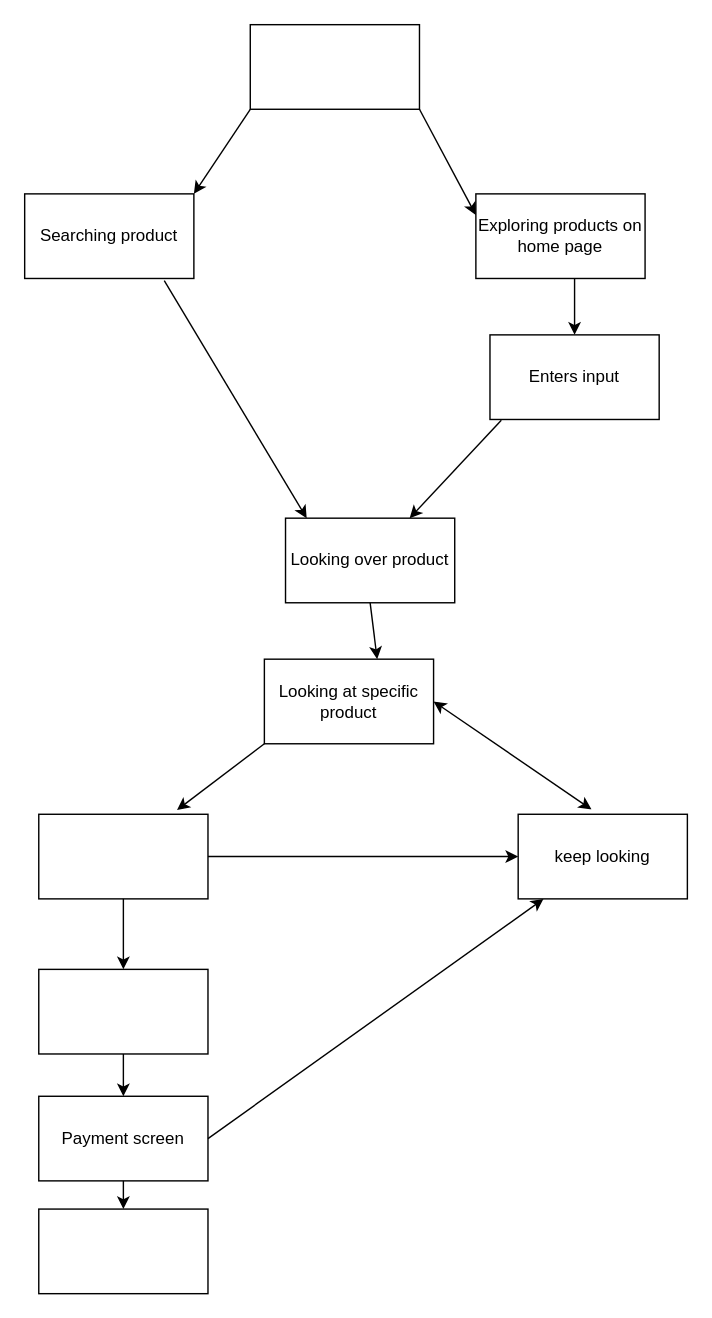
The diagram is 712 pixels wide and 1318 high, and some of its shapes have lost their labels. The box of each missing label's shape, as (x1, y1, x2, y2) in pixels:
add to car and get an added to cart confirmation: (37, 813, 208, 899)
checkout and go to view cart screen: (37, 968, 208, 1054)
Enters website: (249, 23, 419, 109)
leave website: (37, 1208, 208, 1294)
